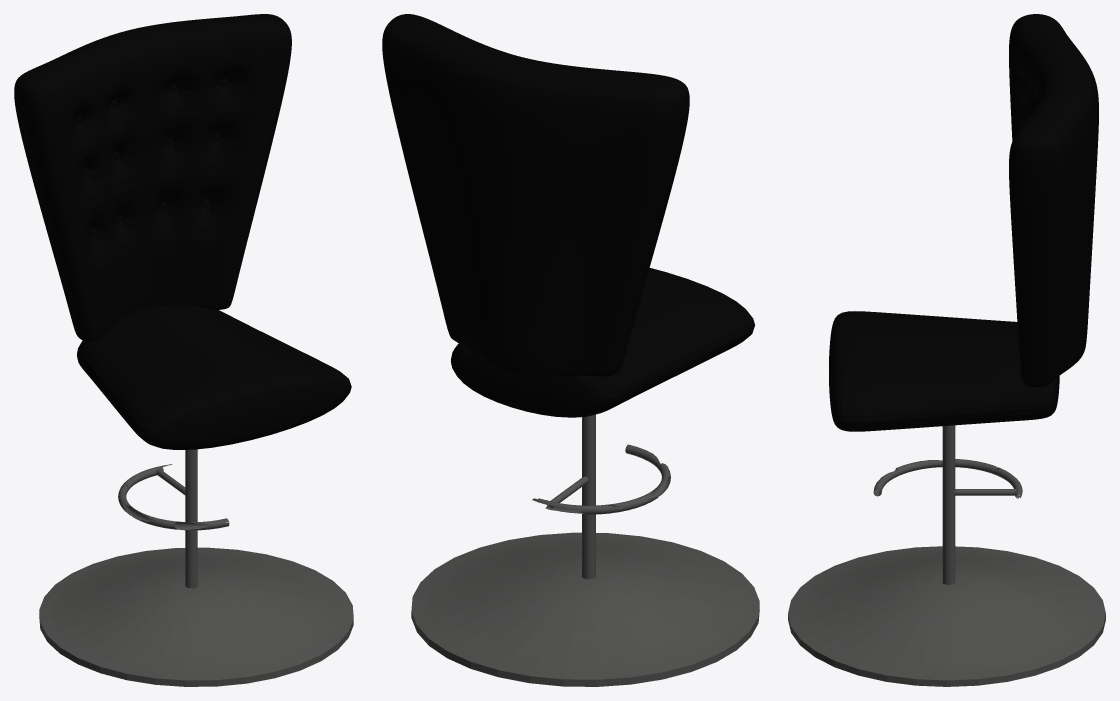
The model's file is Chair.fbx.
3 views of the same model, side by side, from view 1: azimuth 30°, elevation 25°; view 2: azimuth 150°, elevation 25°; view 3: azimuth 270°, elevation 25° (orthographic). The views are drawn at different scales.
Visible parts, largest first — view 1: Cube, Cylinder, Cube.001, BezierCircle; view 2: Cube, Cylinder, Cube.001, BezierCircle; view 3: Cylinder, Cube, Cube.001, BezierCircle.
Part boxes in pixels (x1,y1,x2,y2): Cube: (14, 14, 291, 341); Cylinder: (39, 449, 353, 686); Cube.001: (77, 304, 351, 449); BezierCircle: (118, 464, 229, 530); Cube: (382, 14, 689, 376); Cylinder: (411, 414, 759, 686); Cube.001: (450, 268, 755, 417); BezierCircle: (532, 444, 670, 514); Cylinder: (788, 425, 1105, 686); Cube: (1009, 14, 1098, 387); Cube.001: (829, 311, 1059, 431); BezierCircle: (873, 459, 1022, 498).
Bounding box in the file's own units: 200 × 380 × 200.
Materials: 2 (1 with a texture image).
